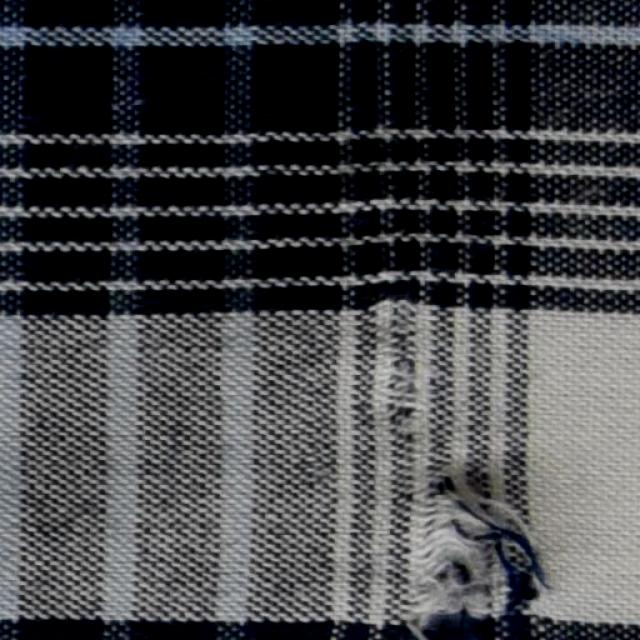Snag: (385, 449, 548, 640)
